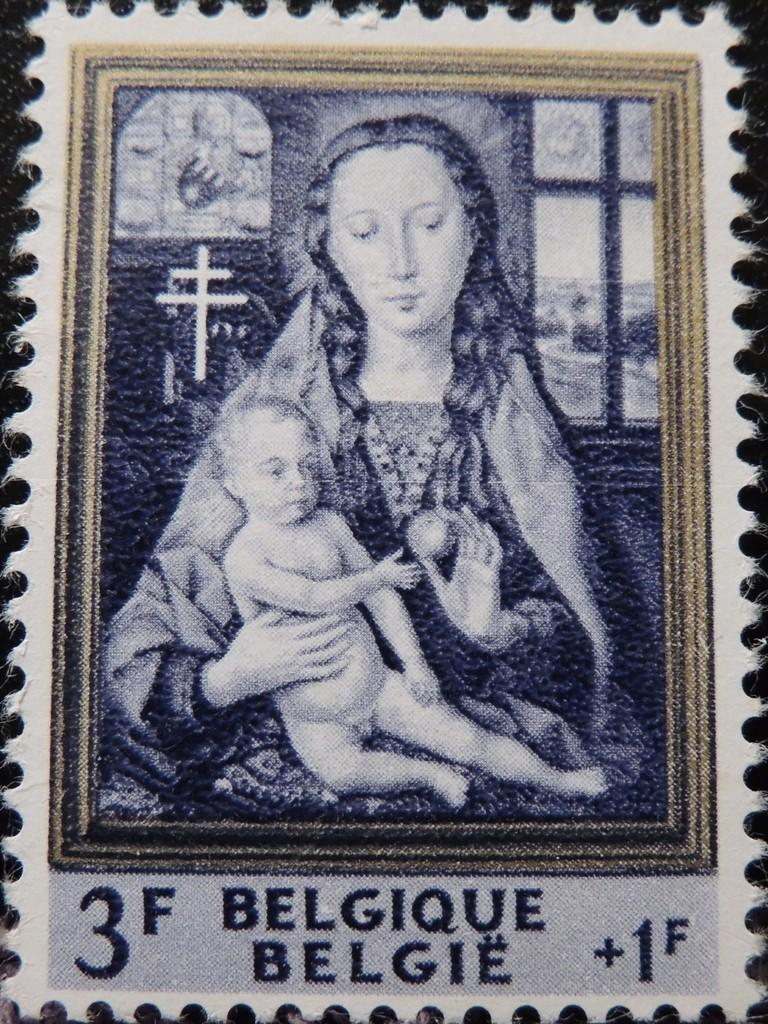Sem Máscara: (325, 140, 462, 328), (234, 415, 325, 520)
